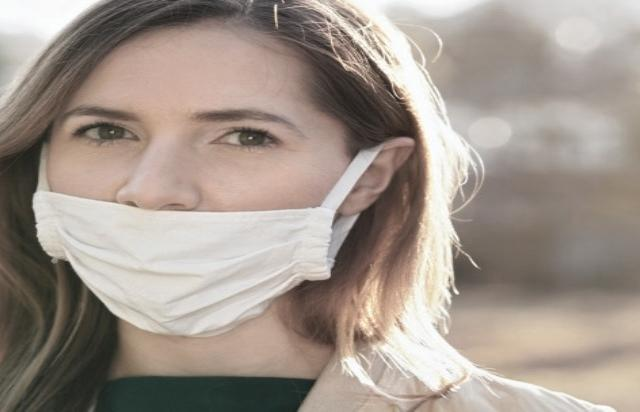mask_weared_incorrect: (30, 1, 452, 341)
